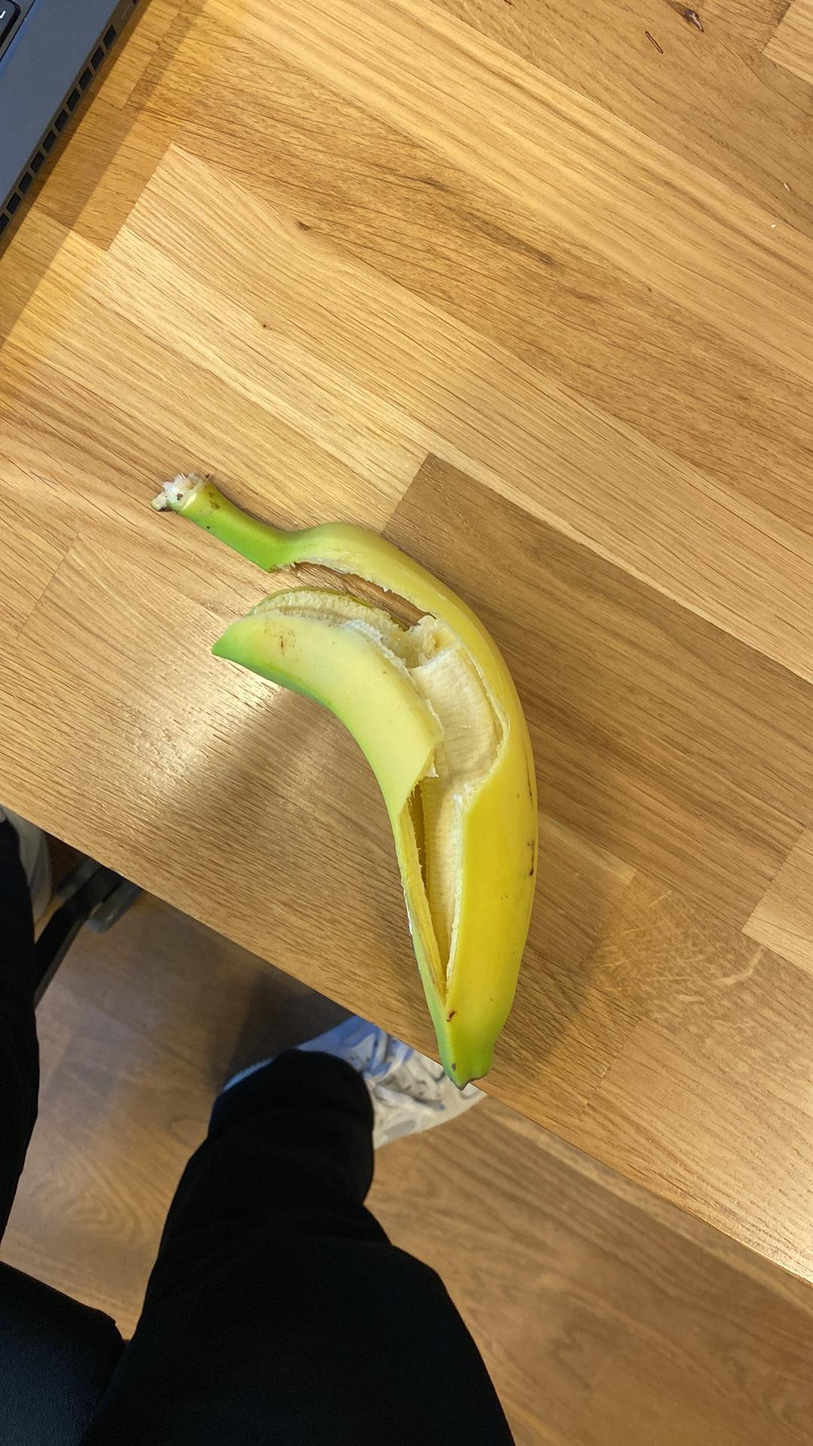lettuce: (147, 458, 552, 1098)
